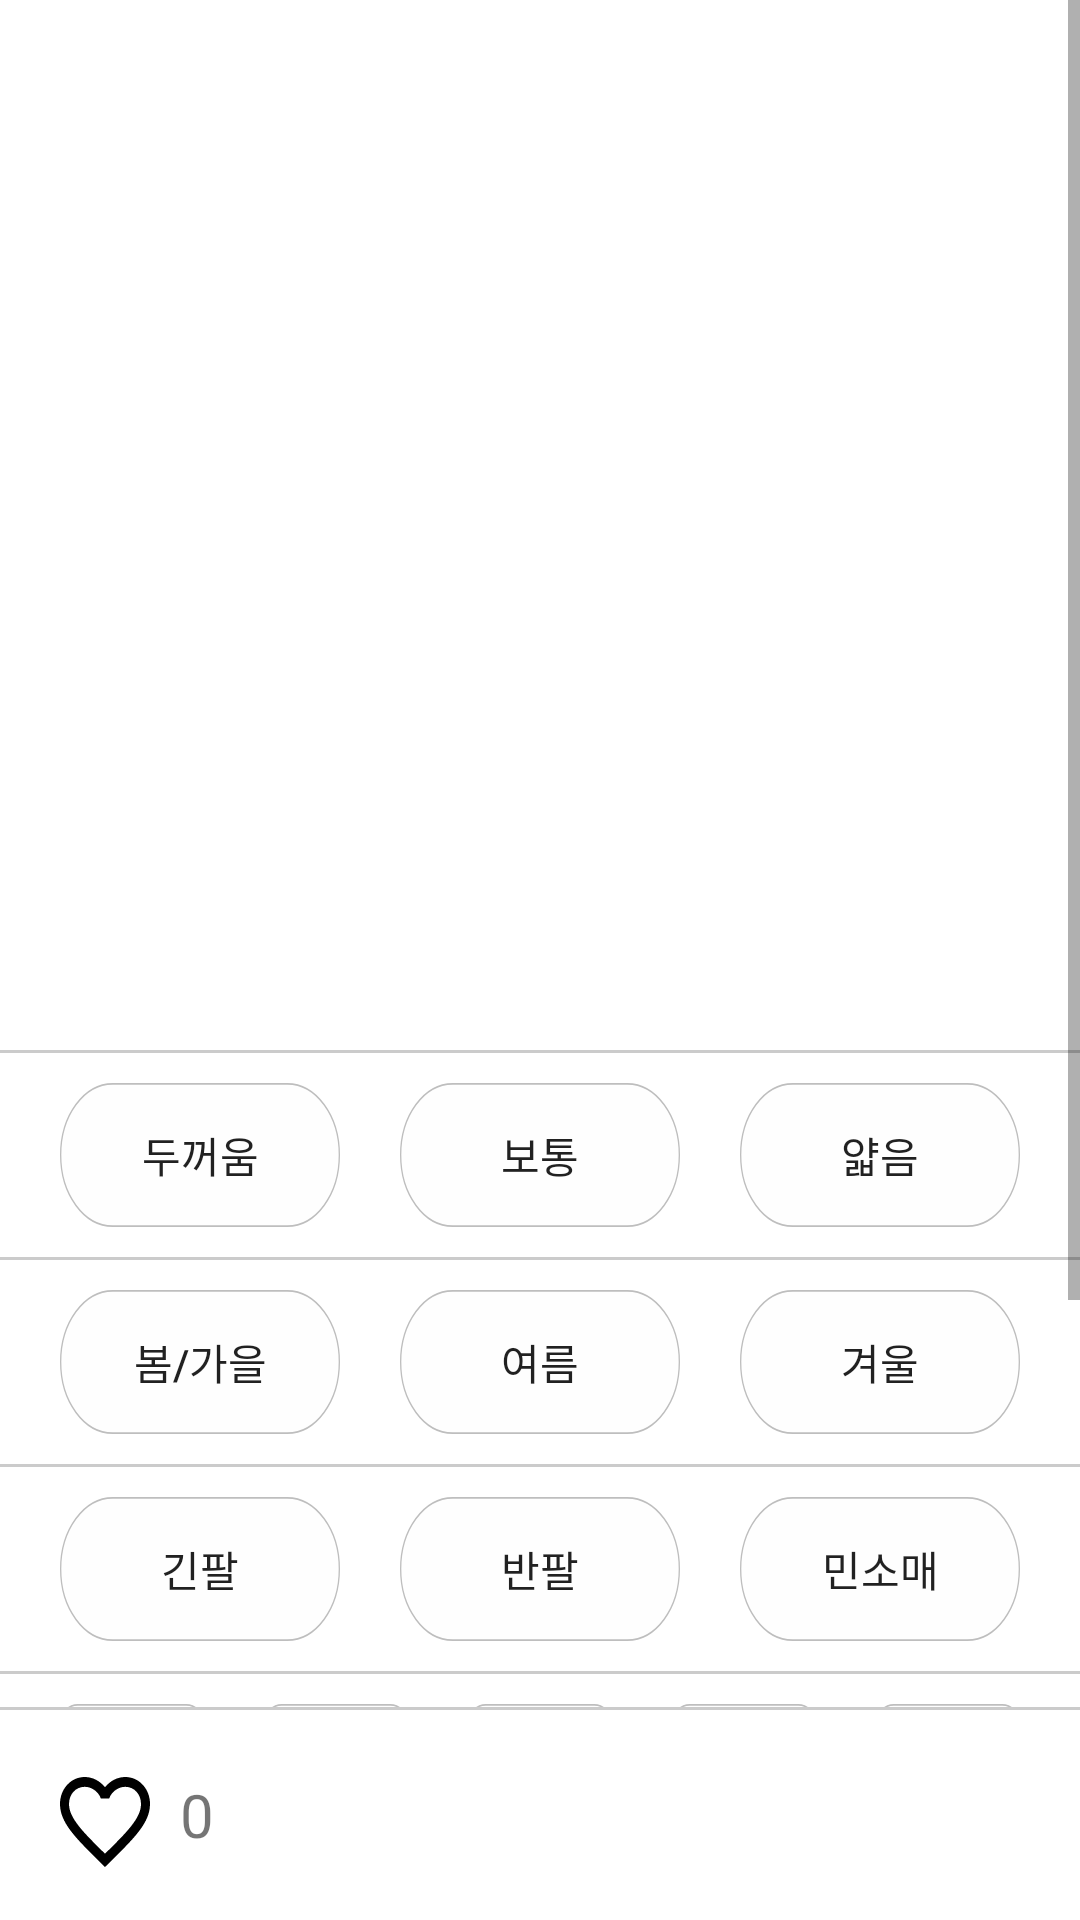

Named icons in this screenshot (1080x1920) and their centers, (x,y):
heart: (105,1822)
